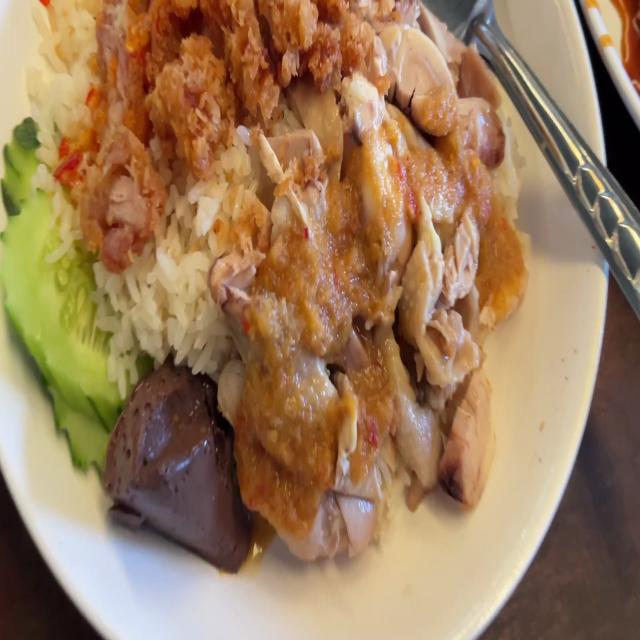boiled_chicken: (240, 22, 512, 534)
boiled_chicken_blood_jelly: (103, 360, 258, 570)
chicken_rice: (0, 0, 530, 564)
cucumber: (1, 118, 132, 472)
fried_chicken: (65, 0, 376, 264)
